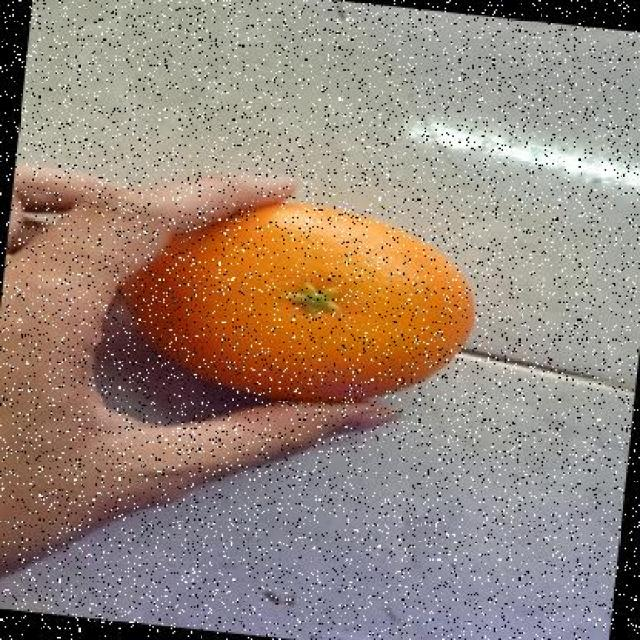Orange: (118, 194, 477, 403)
